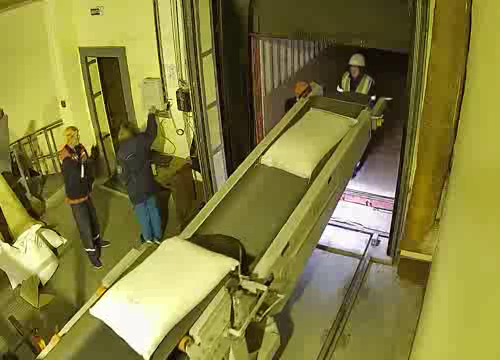bag: (89, 236, 240, 359), (259, 107, 359, 180)
